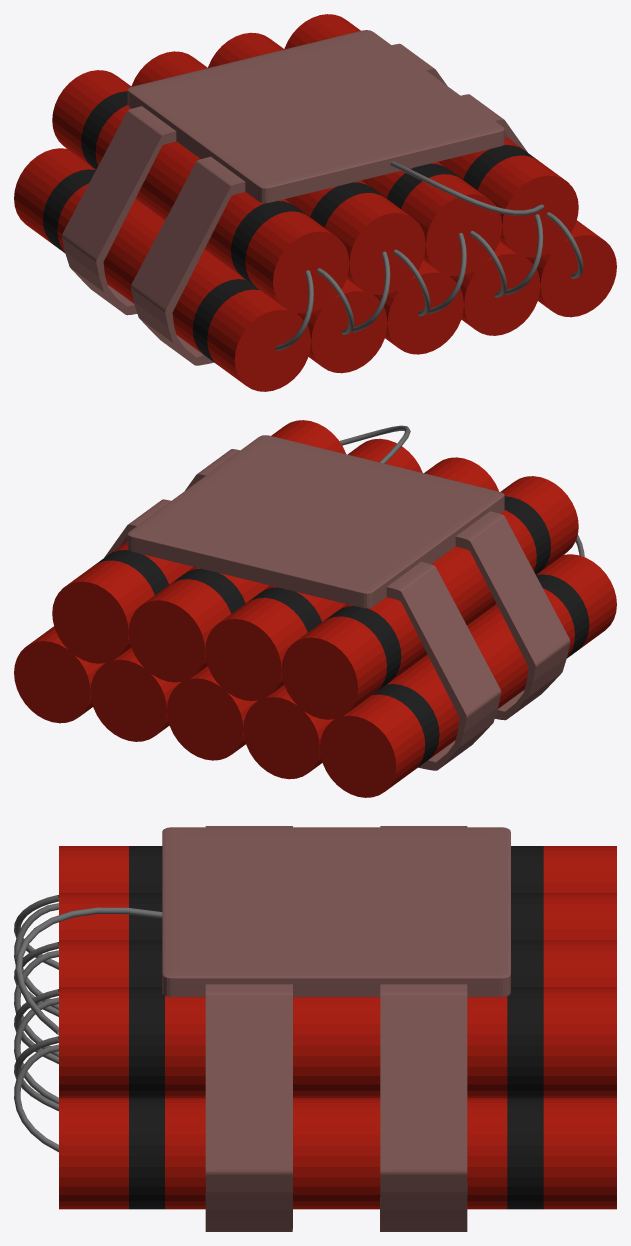
The model's file is Bomb 2.fbx.
The picture shows the model from 3 angles, top to bottom: view 1: azimuth 30°, elevation 25°; view 2: azimuth 150°, elevation 25°; view 3: azimuth 270°, elevation 25°; orthographic projection. The views are drawn at different scales.
Parts seen in each view (by area): view 1: Dynamite, Cube, Wires, BezierCurve; view 2: Dynamite, Cube, BezierCurve; view 3: Dynamite, Cube, Wires, BezierCurve.
Part boxes in pixels (left/top/right/bottom): Dynamite: left=14, top=14, right=616, bottom=391; Cube: left=62, top=30, right=527, bottom=365; Wires: left=275, top=212, right=583, bottom=351; BezierCurve: left=390, top=161, right=544, bottom=215; Dynamite: left=14, top=420, right=616, bottom=797; Cube: left=104, top=435, right=570, bottom=770; BezierCurve: left=339, top=425, right=410, bottom=463; Dynamite: left=59, top=846, right=616, bottom=1209; Cube: left=162, top=826, right=510, bottom=1231; Wires: left=14, top=895, right=58, bottom=1152; BezierCurve: left=15, top=907, right=162, bottom=1035.
Bounding box in the file's own units: 265 × 112 × 270.
